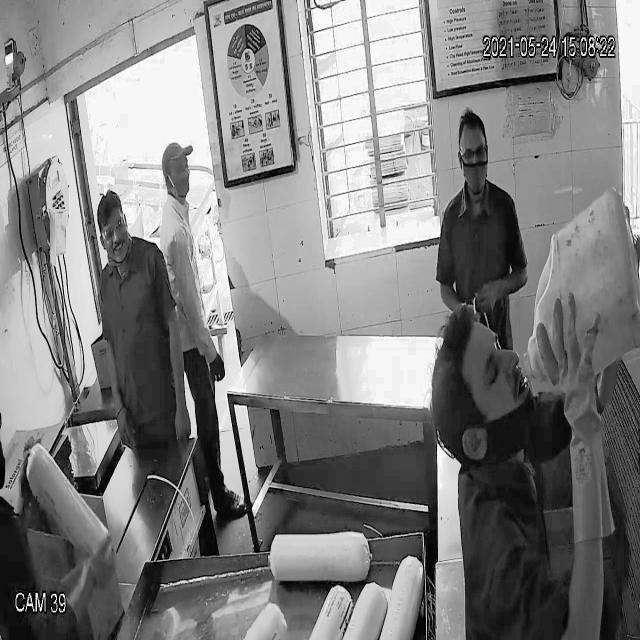glasses: (454, 138, 496, 169), (96, 214, 130, 246)
no-glass: (480, 316, 508, 436)
